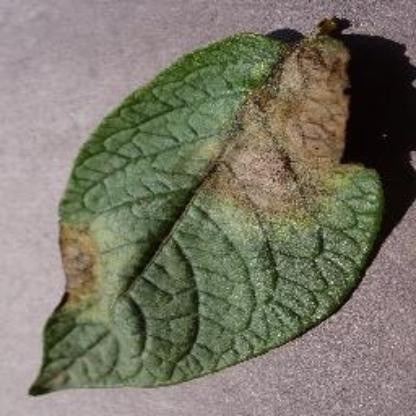Late-Blight: (29, 16, 412, 392)
